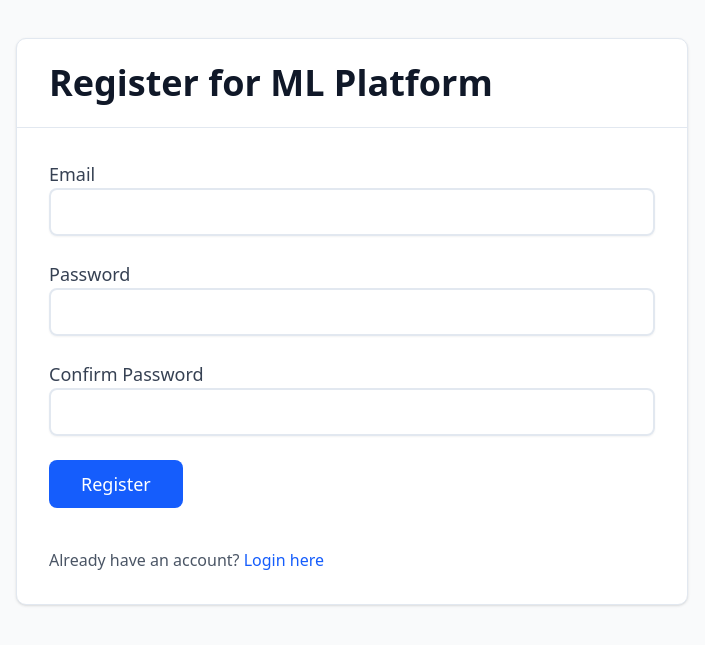
RegisterPage › shows fallback error text if rejected value has no message
This screenshot has width=705, height=645.
In the field labelled "Email": x=352, y=212 [49,188,655,236], type "no-msg@example.com"
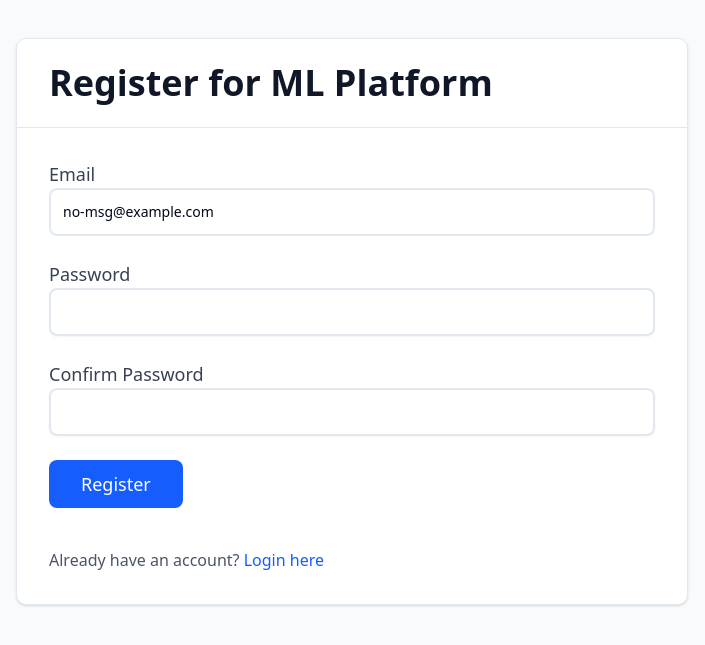
In the password field labelled "Password": x=352, y=312 [49,288,655,336], type "abc123"
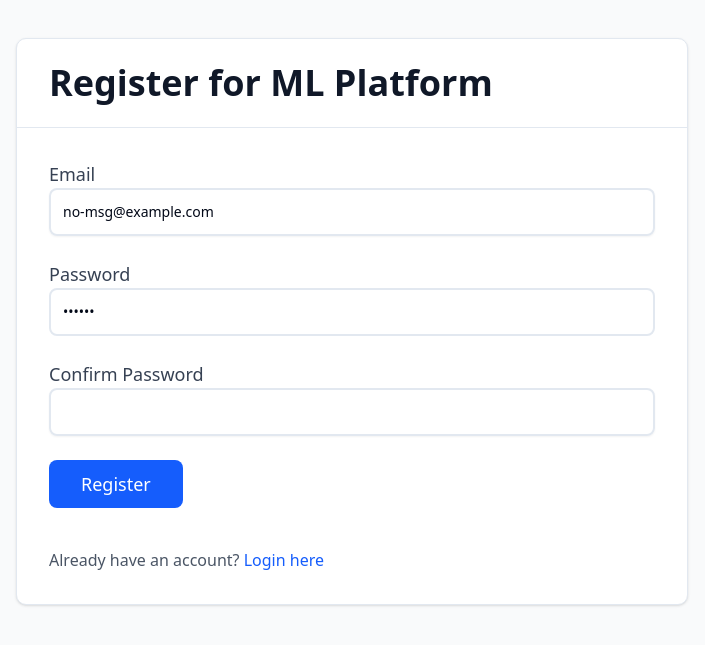
In the password field labelled "Confirm Password": x=352, y=412 [49,388,655,436], type "abc123"
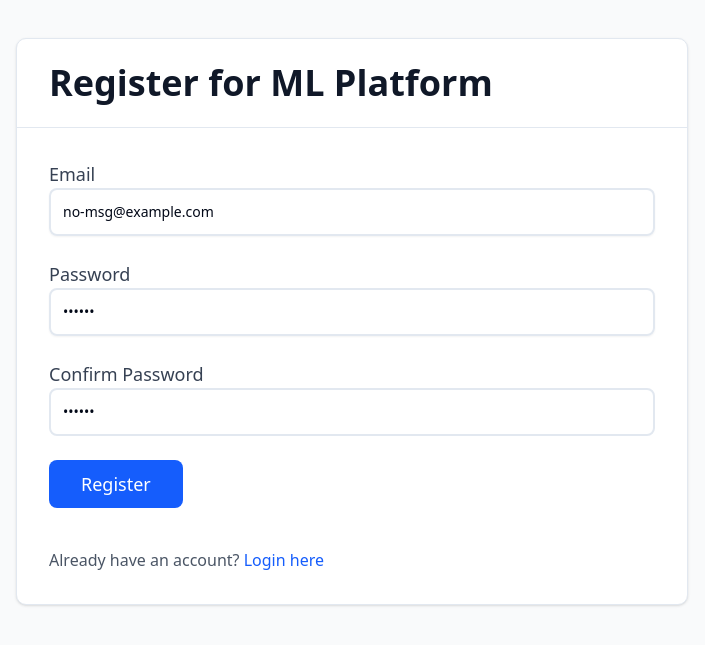
Click the button "Register": x=116, y=484 [49,460,183,508]
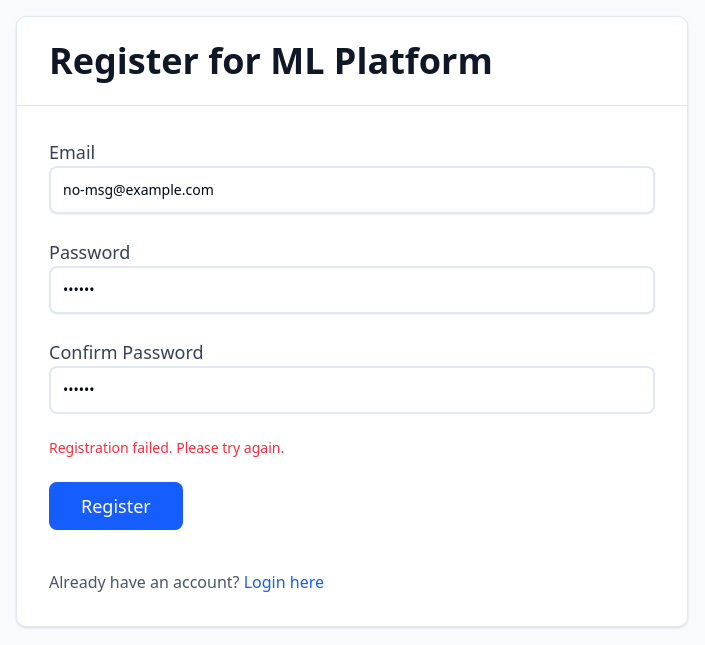
expect the text "Registration failed. Please try again." is shown: met, box [49,438,284,456]
